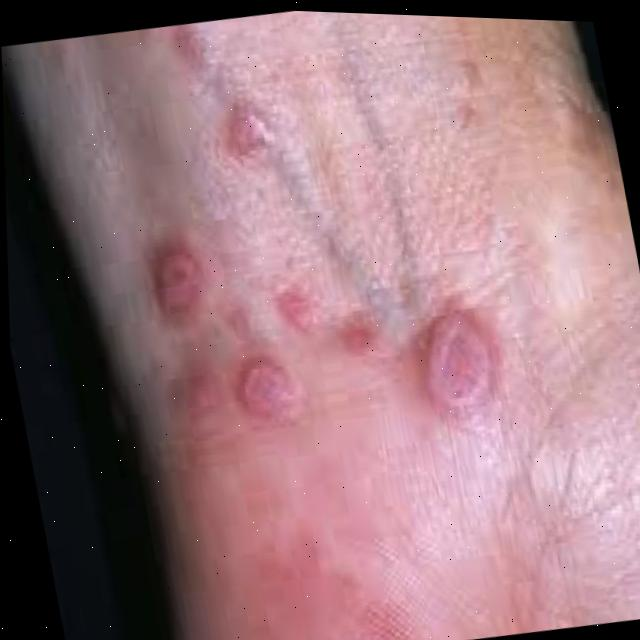Eczema: (100, 27, 558, 511)
